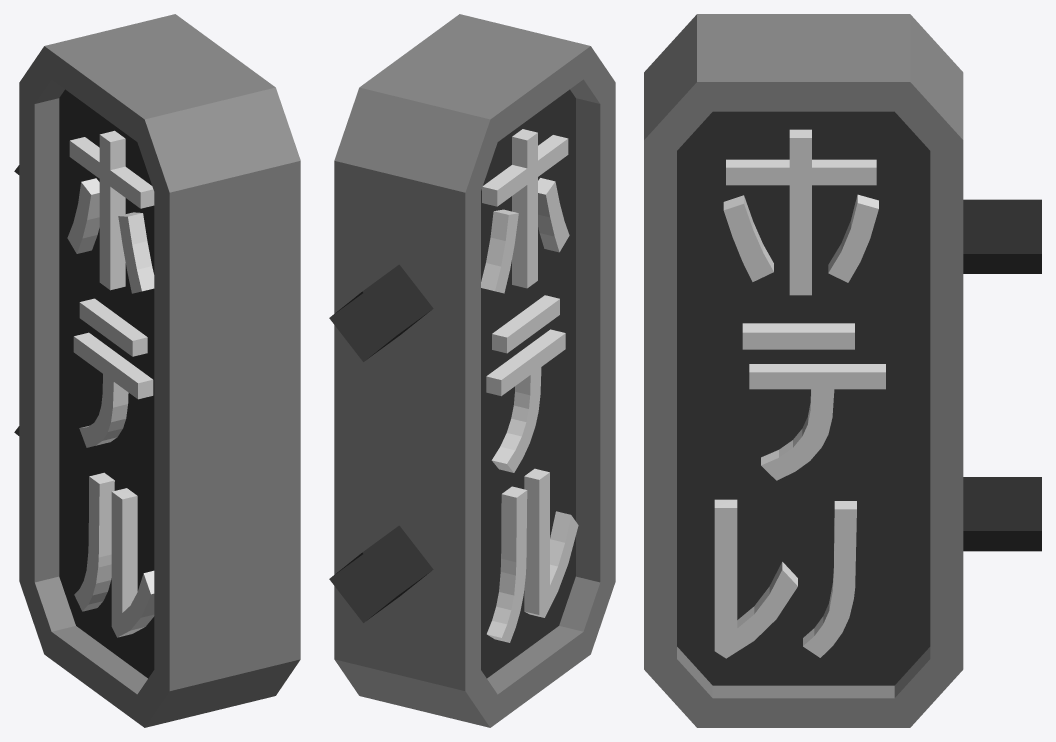
Rendered from sign_hotel.FBX.
The picture shows the model from 3 angles, left to right: view 1: azimuth 30°, elevation 25°; view 2: azimuth 150°, elevation 25°; view 3: azimuth 270°, elevation 25°; orthographic projection. The views are drawn at different scales.
Parts seen in each view (by area): view 1: sign_hotel, sign_hotel_glow; view 2: sign_hotel, sign_hotel_glow; view 3: sign_hotel, sign_hotel_glow.
Part boxes in pixels (x1=…): sign_hotel: x1=14, y1=14, x2=300, y2=727; sign_hotel_glow: x1=67, y1=130, x2=154, y2=637; sign_hotel: x1=329, y1=14, x2=615, y2=727; sign_hotel_glow: x1=481, y1=129, x2=578, y2=642; sign_hotel: x1=644, y1=14, x2=1041, y2=727; sign_hotel_glow: x1=714, y1=129, x2=885, y2=658.
Bounding box in the file's own units: 18.24 × 80.87 × 45.14.
